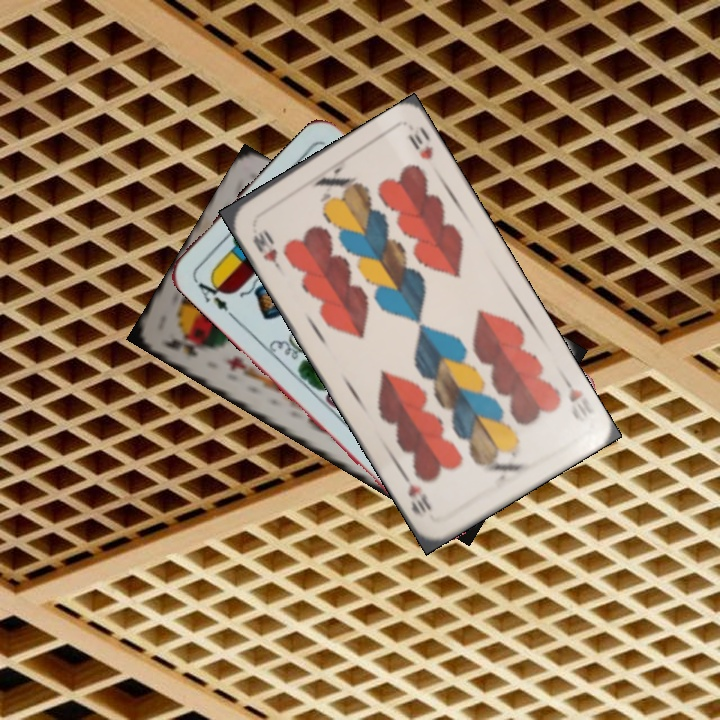EA: (194, 272, 231, 314)
H10: (249, 224, 285, 274), (557, 371, 587, 425)
SK: (157, 334, 200, 360)
